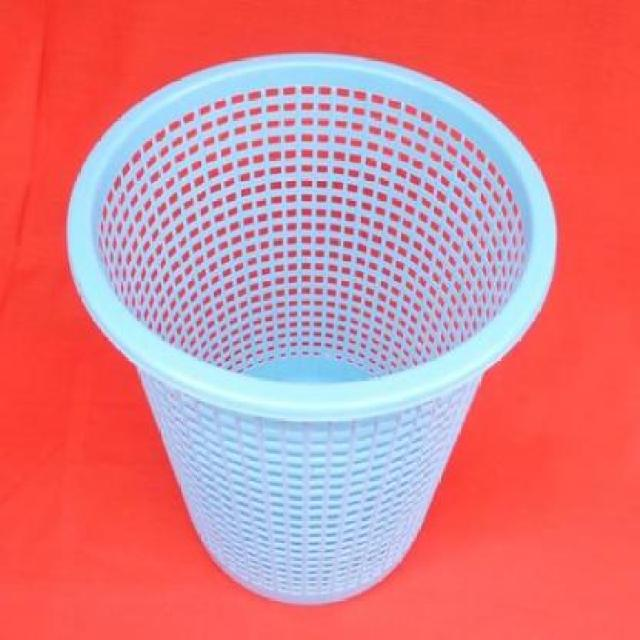dustbin: (60, 40, 562, 614)
